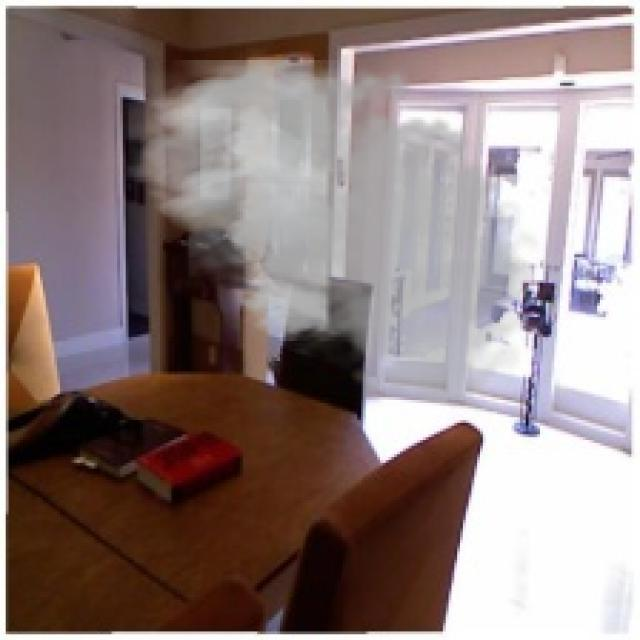Smoke: (128, 46, 552, 408)
